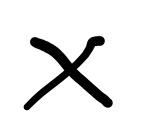mult: (23, 34, 111, 109)
